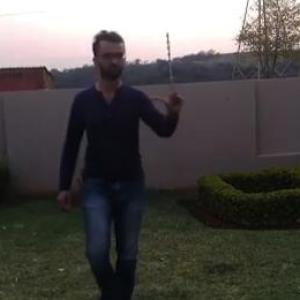land_hand: (154, 69, 190, 114)
